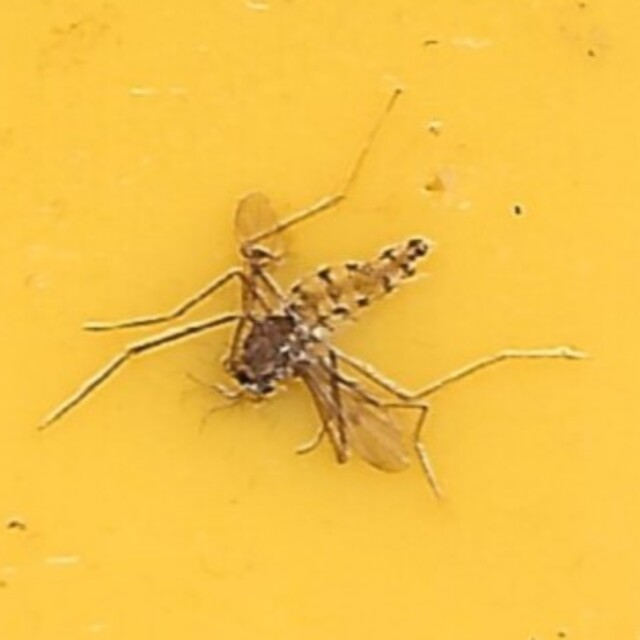Nematocera: (204, 187, 436, 453)
